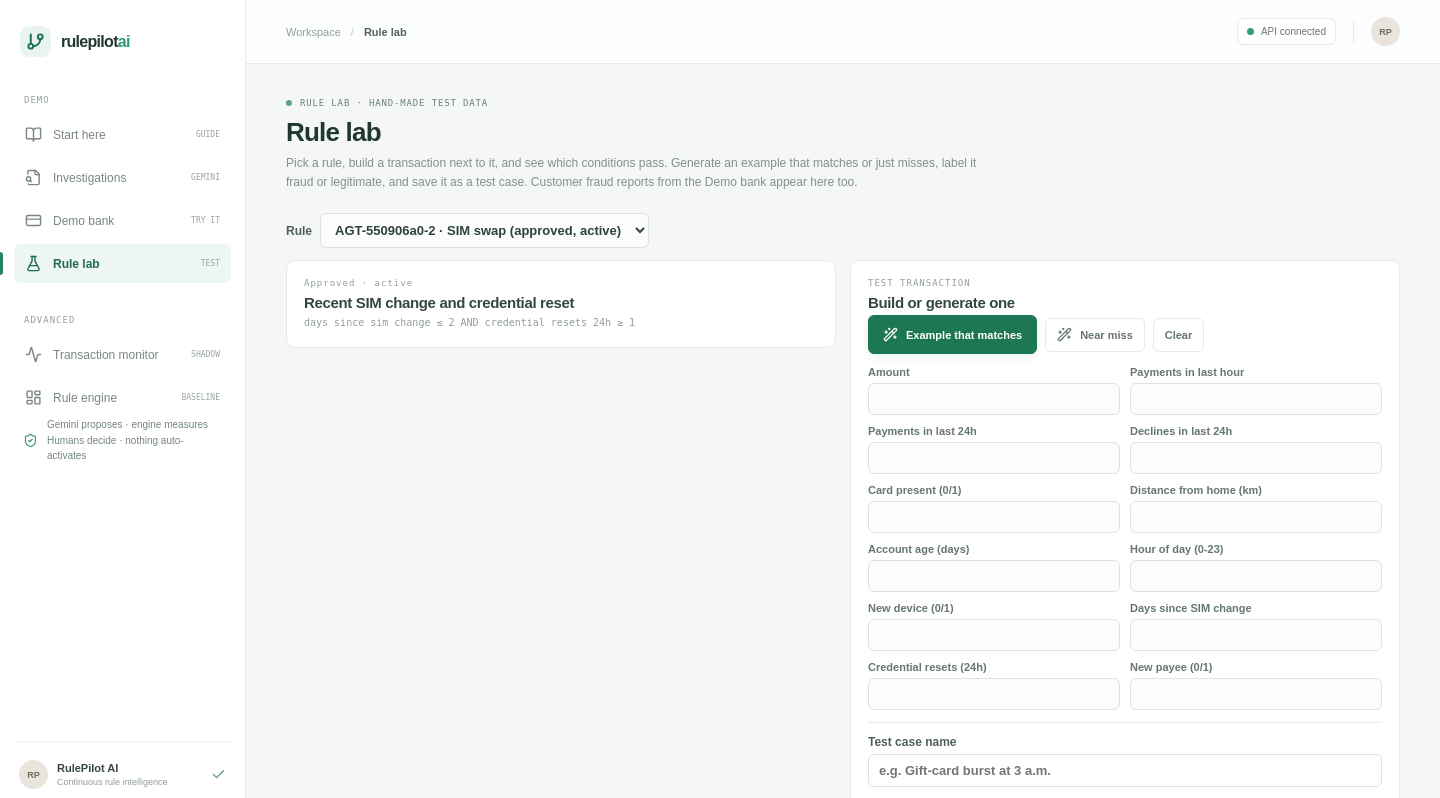
Rule lab › shows the rule and the transaction side by side and saves a generated case
Click the button "Example that matches". click: (953, 335)
box: [868,315,1037,354]
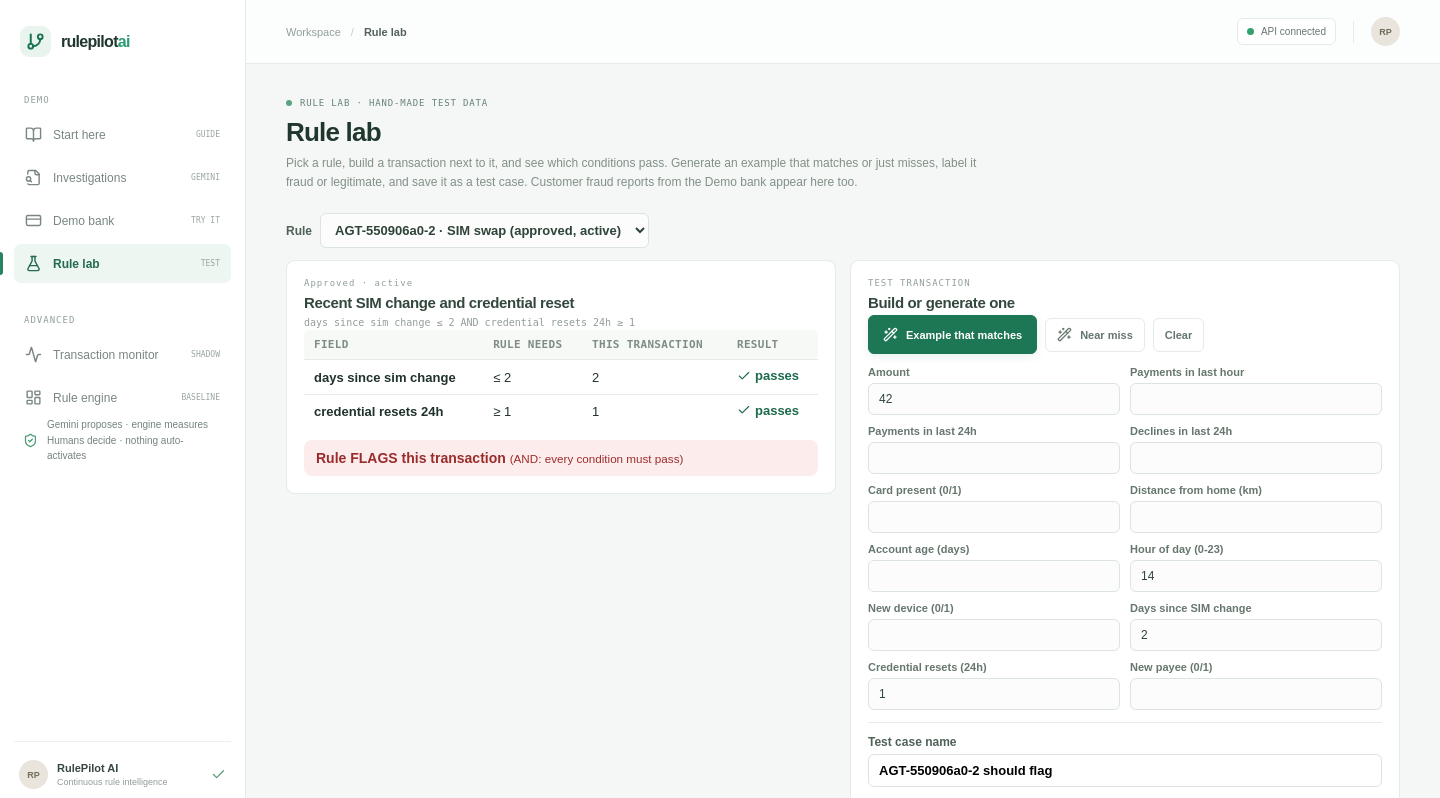
Result: the text "Rule FLAGS this transaction" is shown at [316,450,506,466]
Result: the text "passes" is shown 2 times at [737,368,799,383]; [737,403,799,418]
Click the button "Near miss". click: (1095, 335)
box: [1045,318,1145,352]
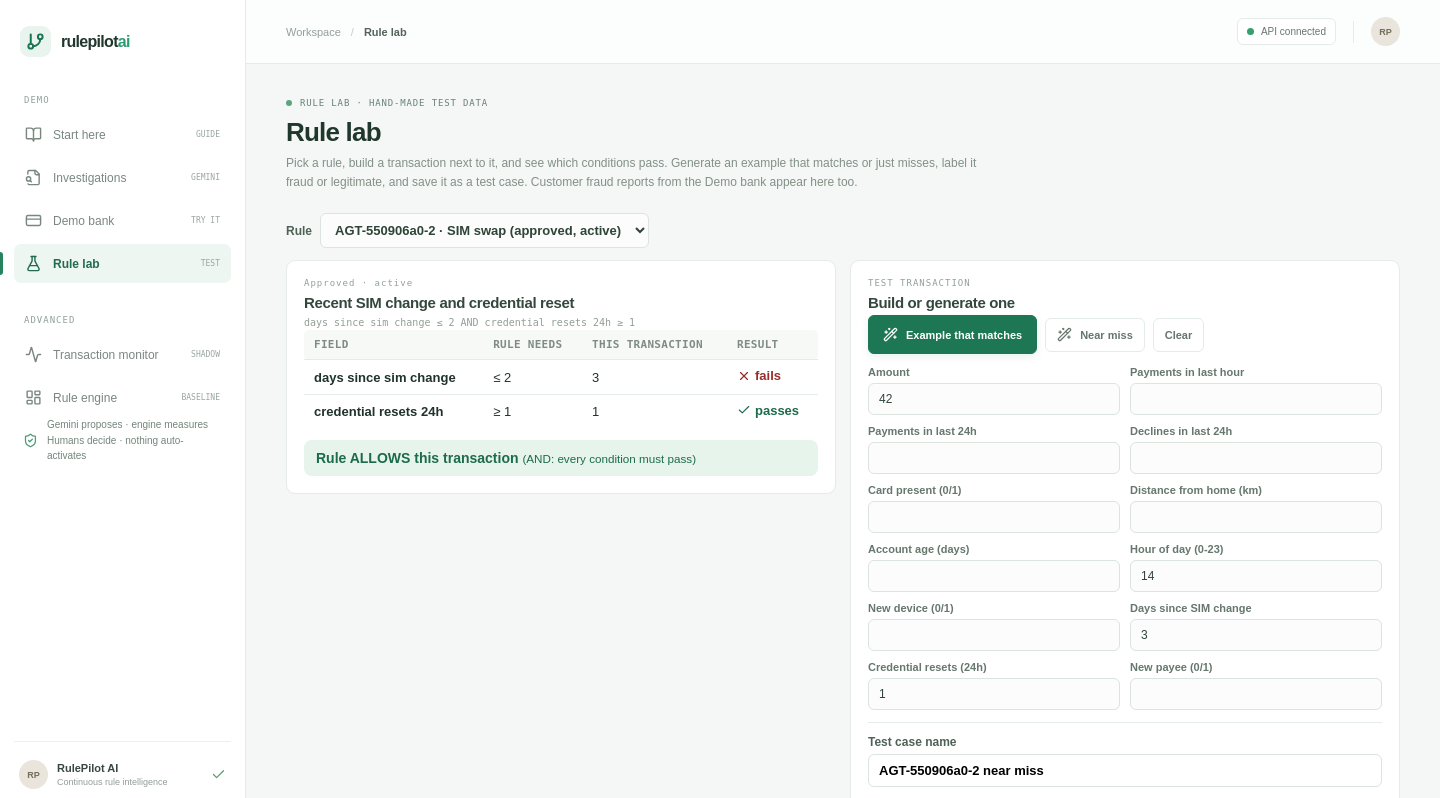
Result: the text "Rule ALLOWS this transaction" is shown at [316,450,518,466]
Result: the text "fails" is shown at [737,368,781,383]
Click the button "Example that matches". click: (953, 335)
box: [868,315,1037,354]
(page scrolled)
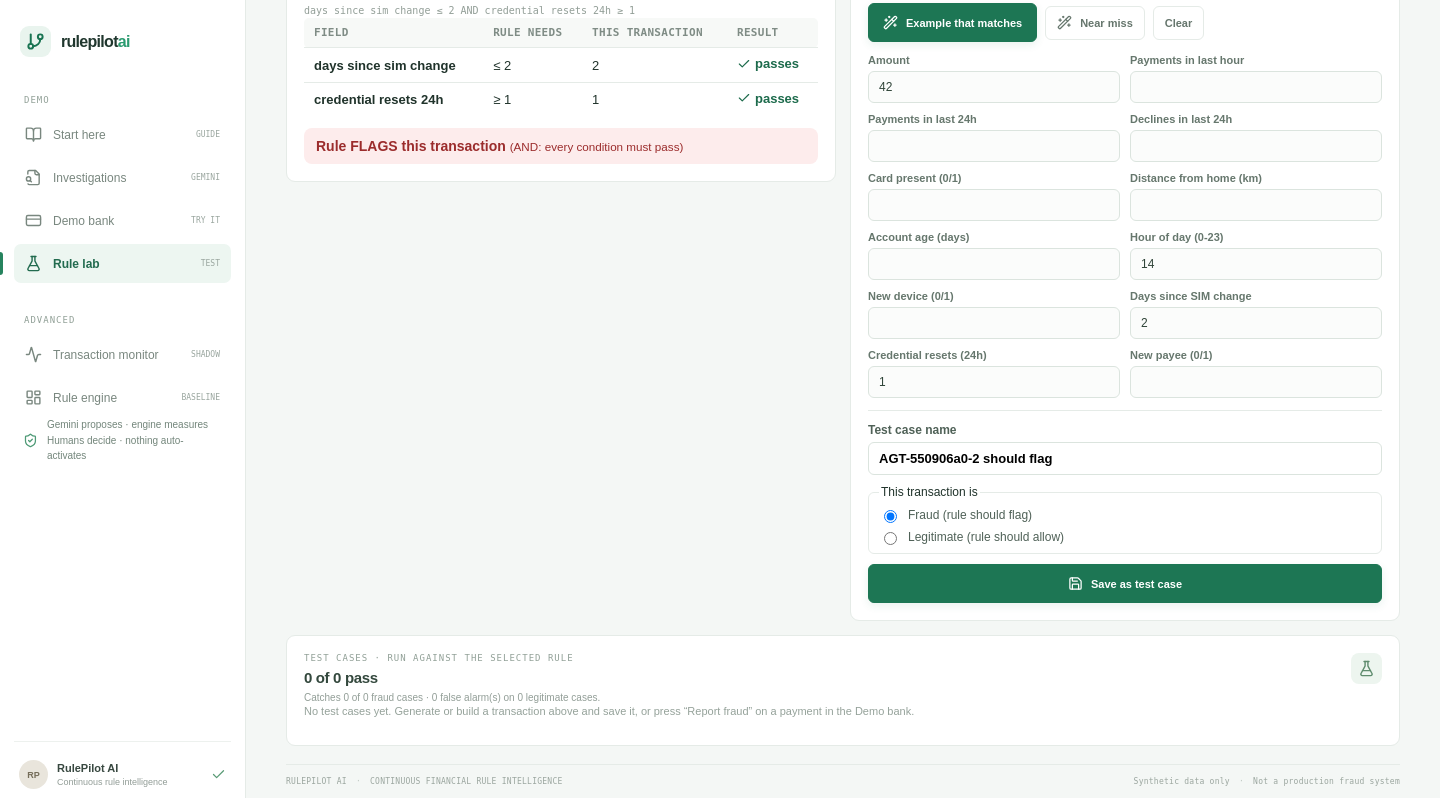
Result: the text "Rule FLAGS this transaction" is shown at [316,138,506,154]
Click the button "Save as test case". click: (1125, 584)
box: [868,564,1382,603]
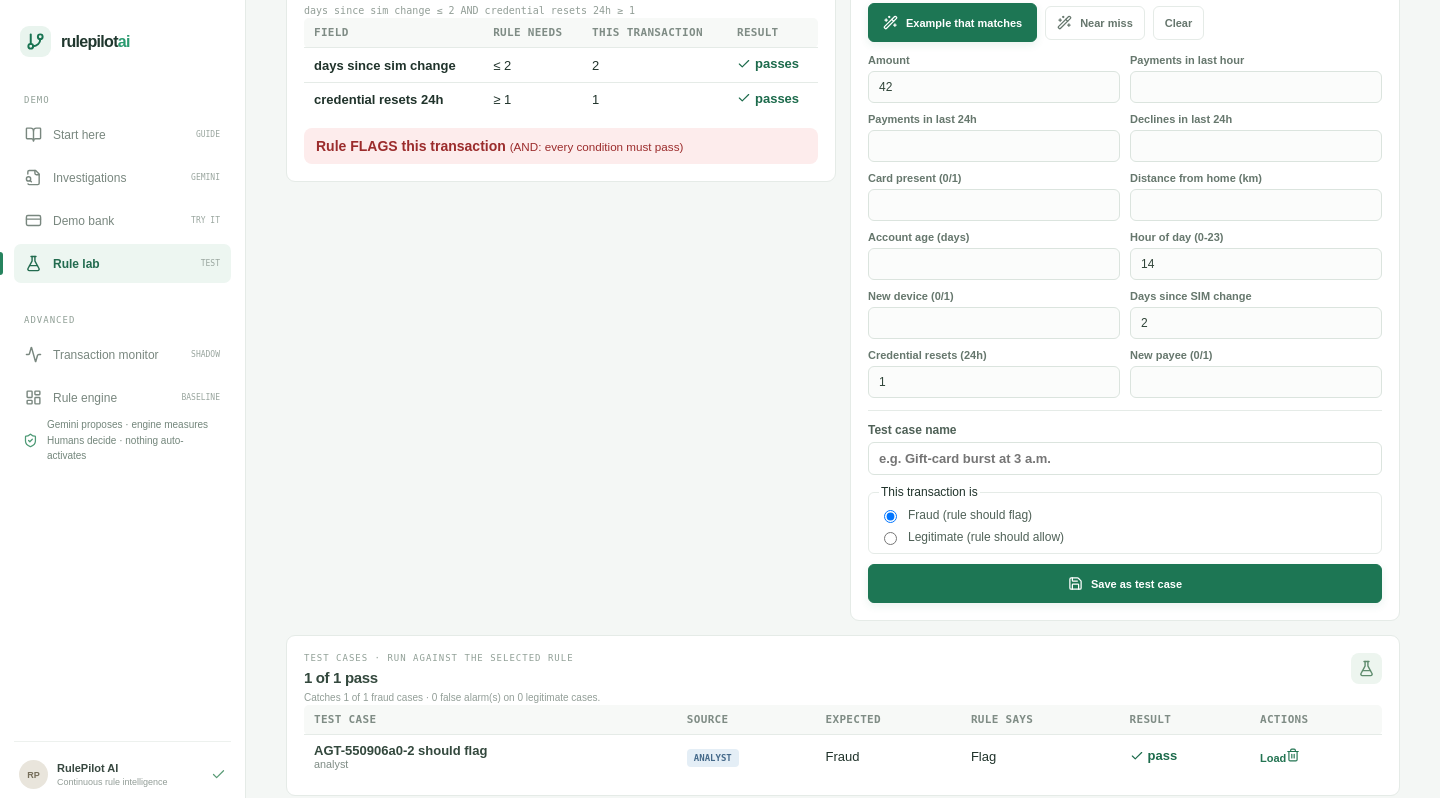
Result: the text "AGT-550906a0-2 should flag" is shown at [314,743,487,758]
Result: the heading "1 of 1 pass" is shown at [304,669,378,686]
